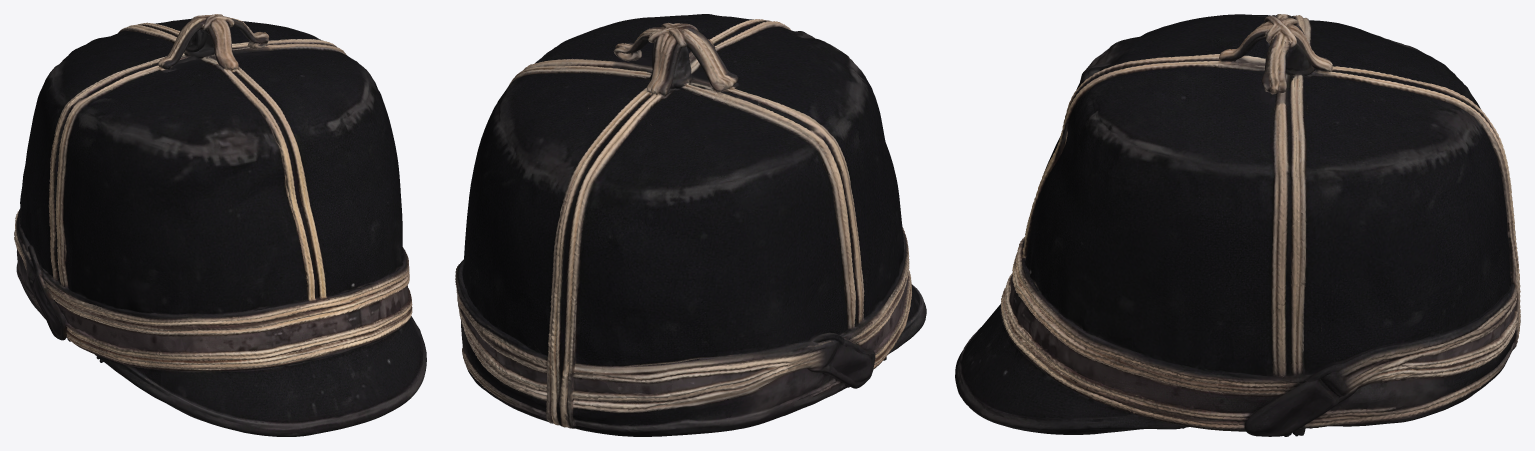
File: ReplikaTopiDutchStyle.glb
The picture shows the model from 3 angles, left to right: view 1: azimuth 30°, elevation 25°; view 2: azimuth 150°, elevation 25°; view 3: azimuth 270°, elevation 25°; orthographic projection. The views are drawn at different scales.
Size of the model in its own units: 1.46 by 1.35 by 1.9.
Materials: 1 (1 with a texture image).
